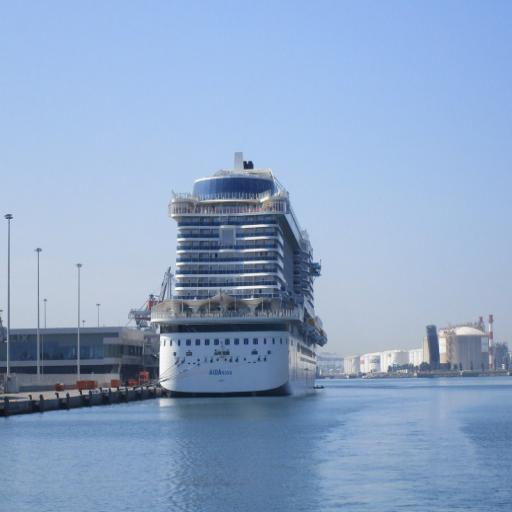cruises: (145, 148, 329, 403)
